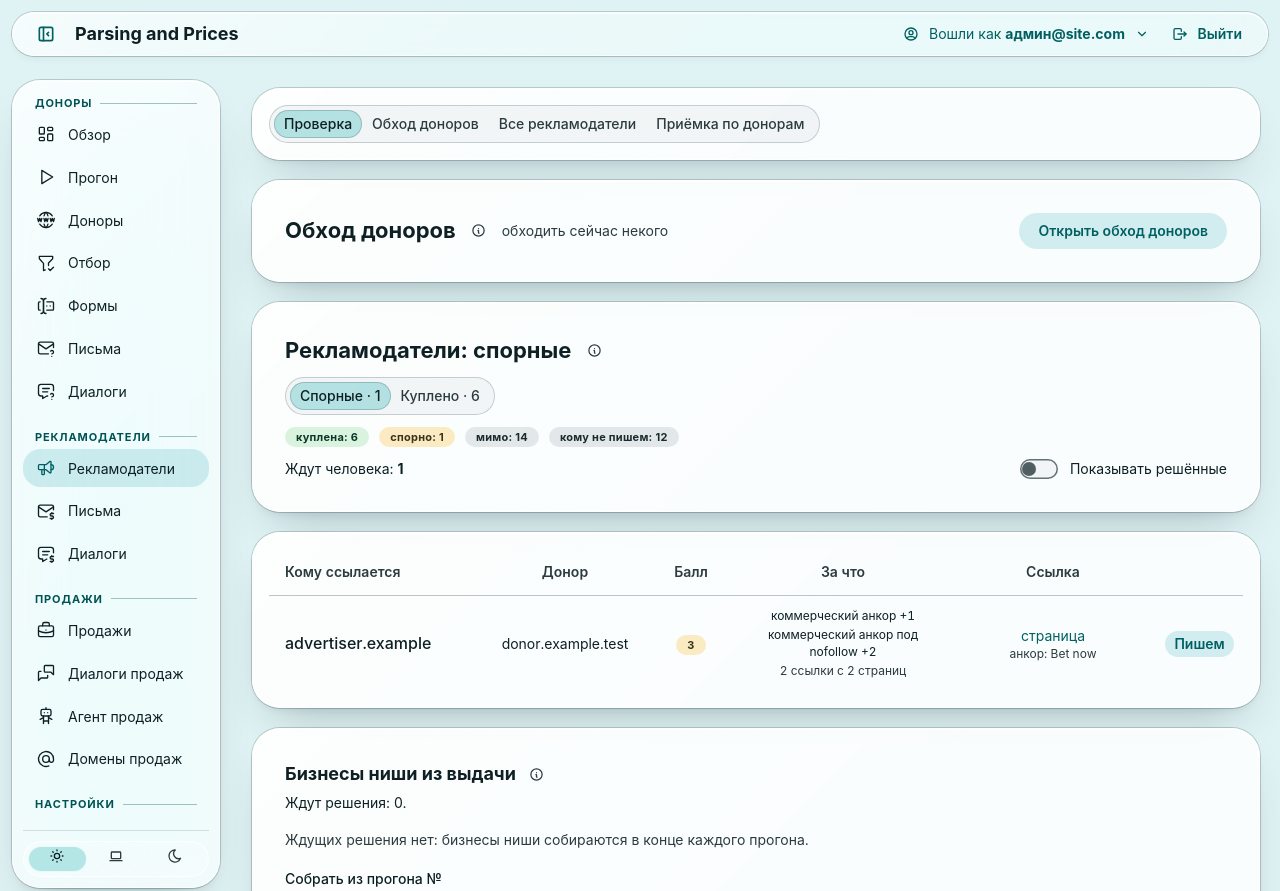
Test case: ручная проверка рекламодателей › отказ сервера виден человеку, а не тонет
Expected: the link "advertiser.example" is shown, [285,633,431,653]
Click the button "Пишем".
click(1200, 644)  # box [1165,631,1234,657]
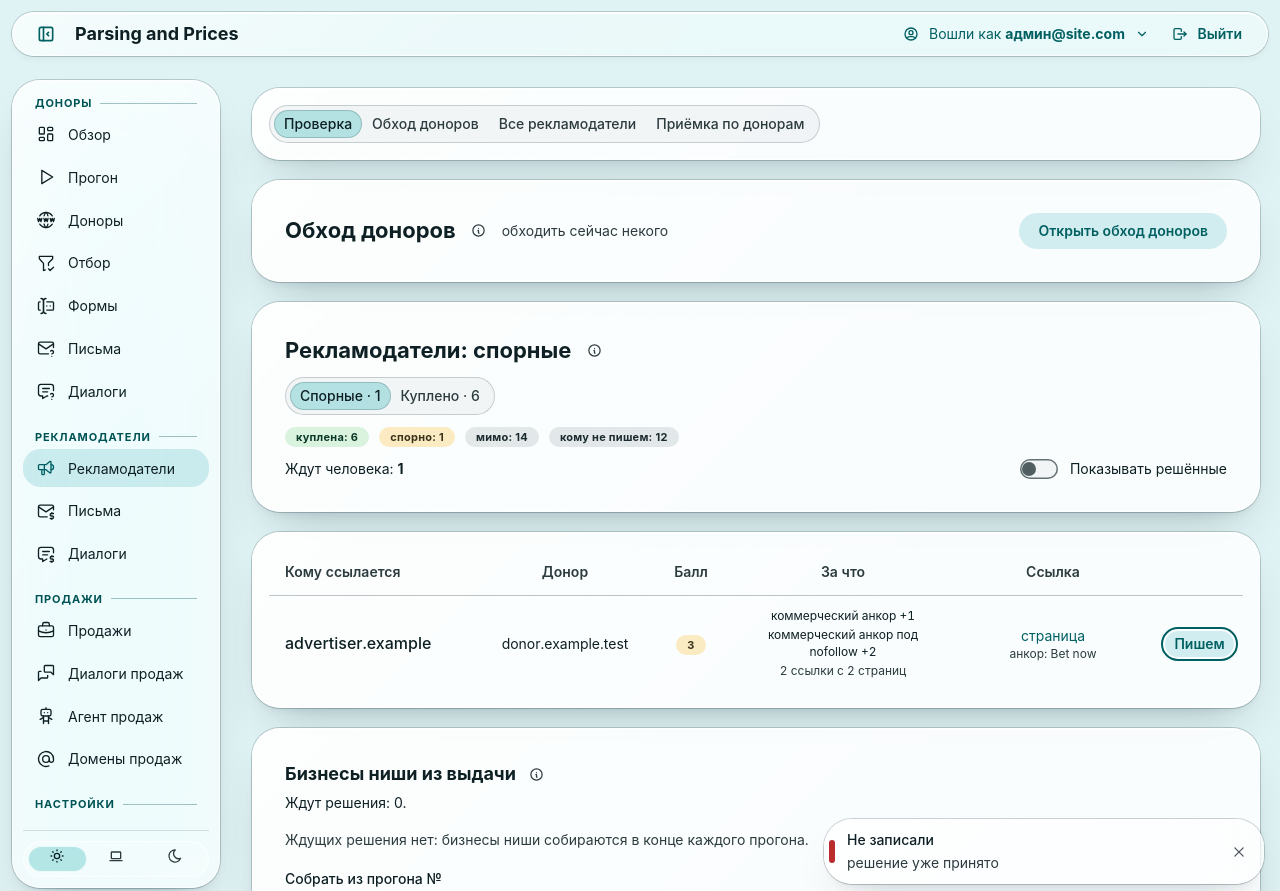
Expected: the text "Не записали" is shown, [847,831,934,848]
